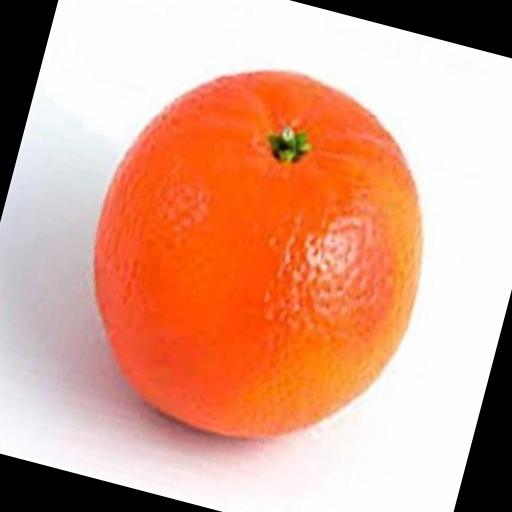fruit: (338, 124, 501, 430)
